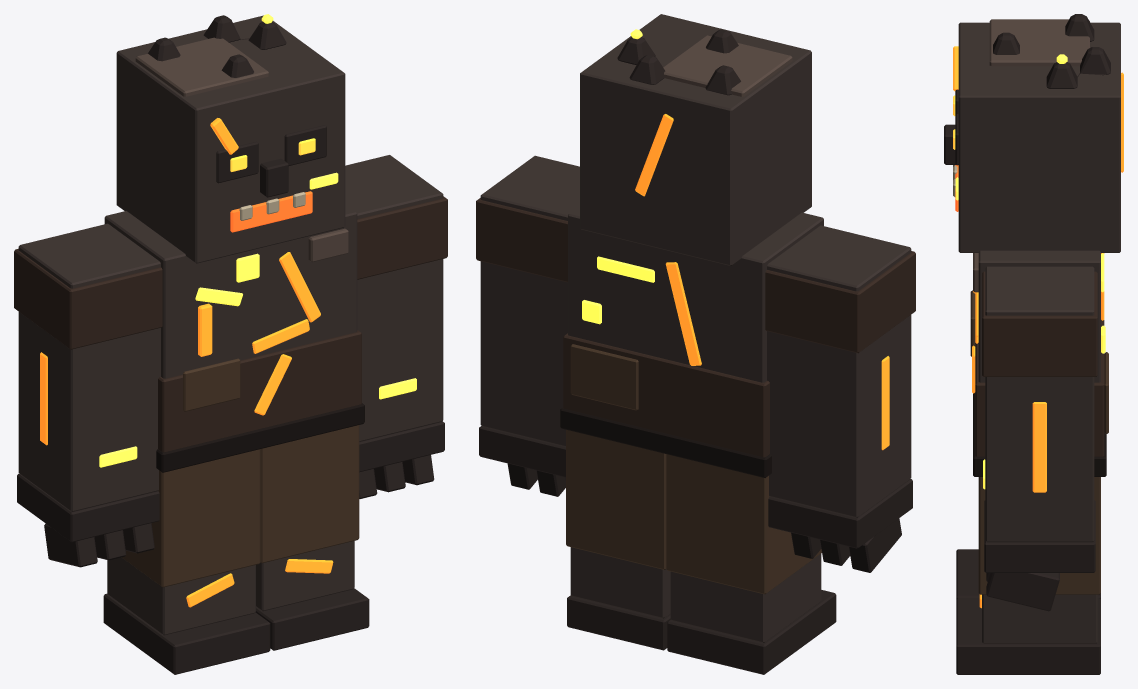
The model's file is myw_zombiecharred.glb.
3 renders of one model, left to right at view 1: azimuth 30°, elevation 25°; view 2: azimuth 150°, elevation 25°; view 3: azimuth 270°, elevation 25°, orthographic.
Parts seen in each view (by area): view 1: Head, RightArm, Torso, LeftArm, RightLeg, LeftLeg, Hat; view 2: Head, RightArm, Torso, LeftArm, RightLeg, LeftLeg, Hat; view 3: LeftArm, Head, LeftLeg, Torso, Hat, RightLeg.
Boxes of the visible parts, x1,y1,x2,y2 form: Head: (116, 15, 345, 263); RightArm: (14, 223, 162, 567); Torso: (104, 204, 364, 472); LeftArm: (345, 155, 447, 498); RightLeg: (103, 449, 270, 674); LeftLeg: (255, 425, 369, 650); Hat: (148, 14, 286, 77); Head: (580, 14, 811, 265); RightArm: (765, 225, 915, 572); Torso: (560, 206, 823, 477); LeftArm: (476, 155, 579, 496); RightLeg: (666, 454, 836, 674); LeftLeg: (566, 429, 670, 650); Hat: (617, 29, 740, 95); LeftArm: (982, 266, 1097, 611); Head: (944, 19, 1123, 252); LeftLeg: (956, 477, 1100, 674); Torso: (970, 250, 1108, 476); Hat: (993, 14, 1110, 88); RightLeg: (956, 549, 1100, 599).
Bounding box in the file's own units: 3.98 × 5.9 × 1.62.
